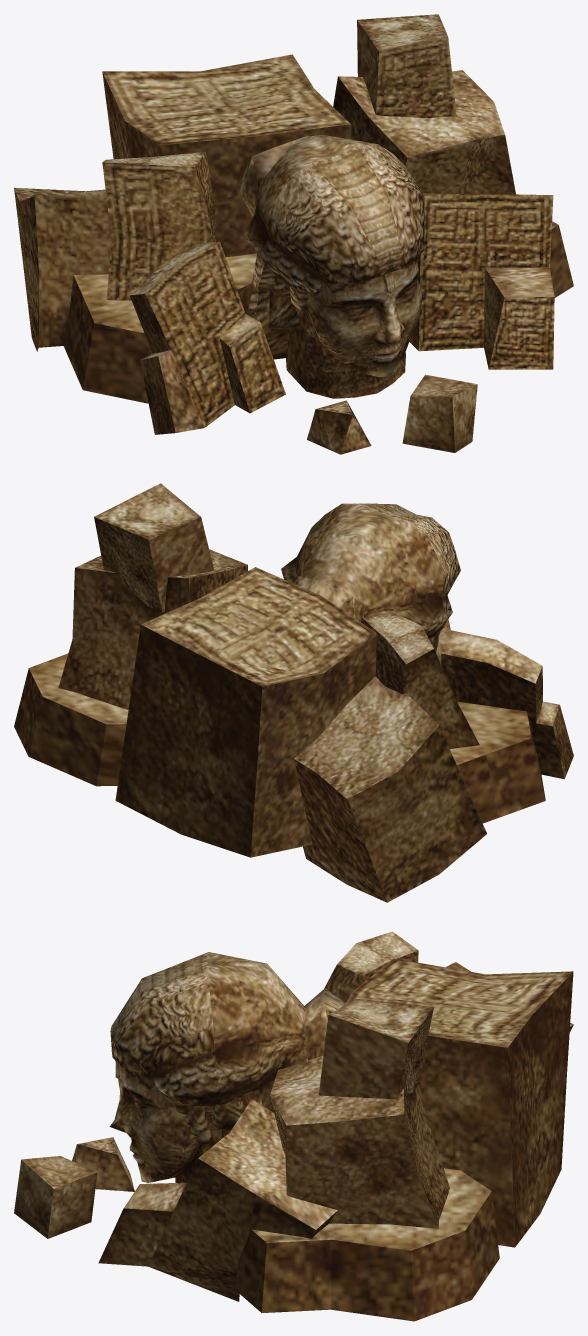
File: ob-bigstatue01.glb
The picture shows the model from 3 angles, top to bottom: view 1: azimuth 30°, elevation 25°; view 2: azimuth 150°, elevation 25°; view 3: azimuth 270°, elevation 25°; orthographic projection. The views are drawn at different scales.
Parts seen in each view (by area): view 1: Box01; view 2: Box01; view 3: Box01.
Boxes of the visible parts, x1,y1,x2,y2 form: Box01: (14,14,573,454); Box01: (14,483,573,902); Box01: (14,931,573,1321).
Bounding box in the file's own units: 11.2 × 6.4 × 10.85.
Materials: 2 (2 with a texture image).
